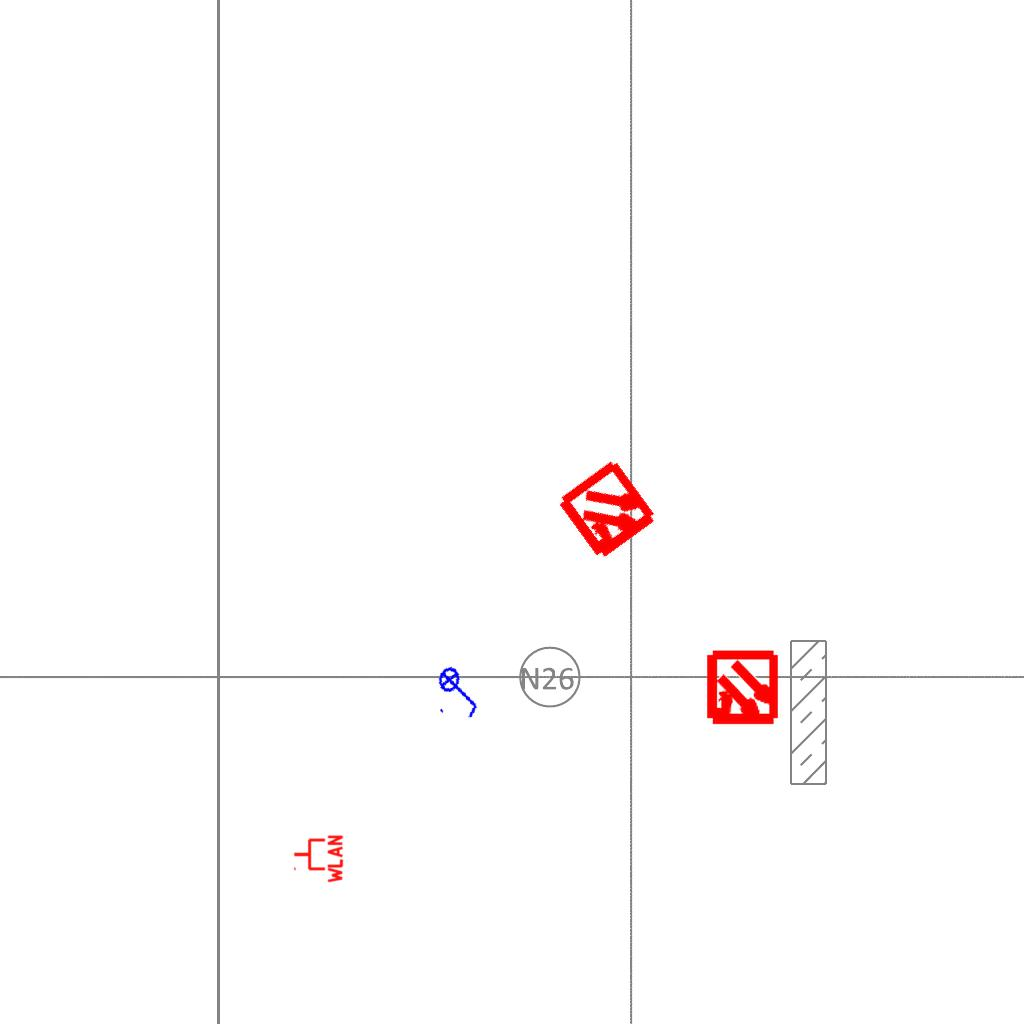Ausschalter_beleuchtet: (430, 658, 490, 724)
OT_Multisensormelder_(Kombination_RMO_WMD): (529, 432, 688, 591), (686, 633, 799, 746)
WLAN: (292, 833, 344, 885)
